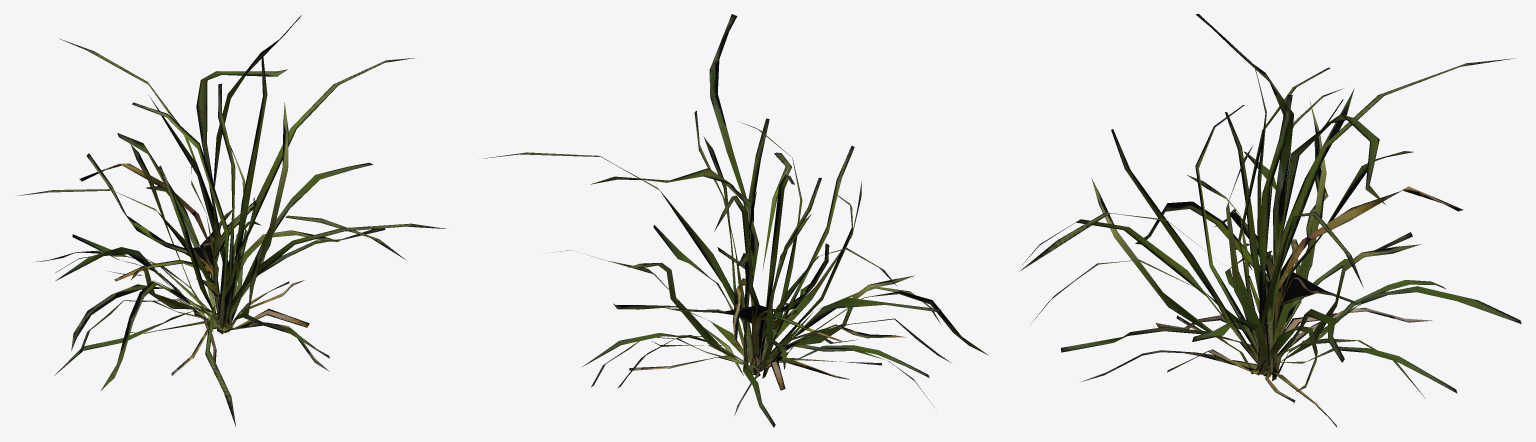
The model's file is SM_Grass_07.gltf.
The picture shows the model from 3 angles, left to right: view 1: azimuth 30°, elevation 25°; view 2: azimuth 150°, elevation 25°; view 3: azimuth 270°, elevation 25°; orthographic projection. The views are drawn at different scales.
Visible parts, largest first — view 1: SM_Grass_07; view 2: SM_Grass_07; view 3: SM_Grass_07.
Part boxes in pixels (x1=…): SM_Grass_07: x1=17, y1=15, x2=445, y2=426; SM_Grass_07: x1=484, y1=14, x2=988, y2=427; SM_Grass_07: x1=1019, y1=14, x2=1521, y2=427.
Size of the model in its own units: 0.1847 by 0.1405 by 0.1623.
Materials: 1 (1 with a texture image).
